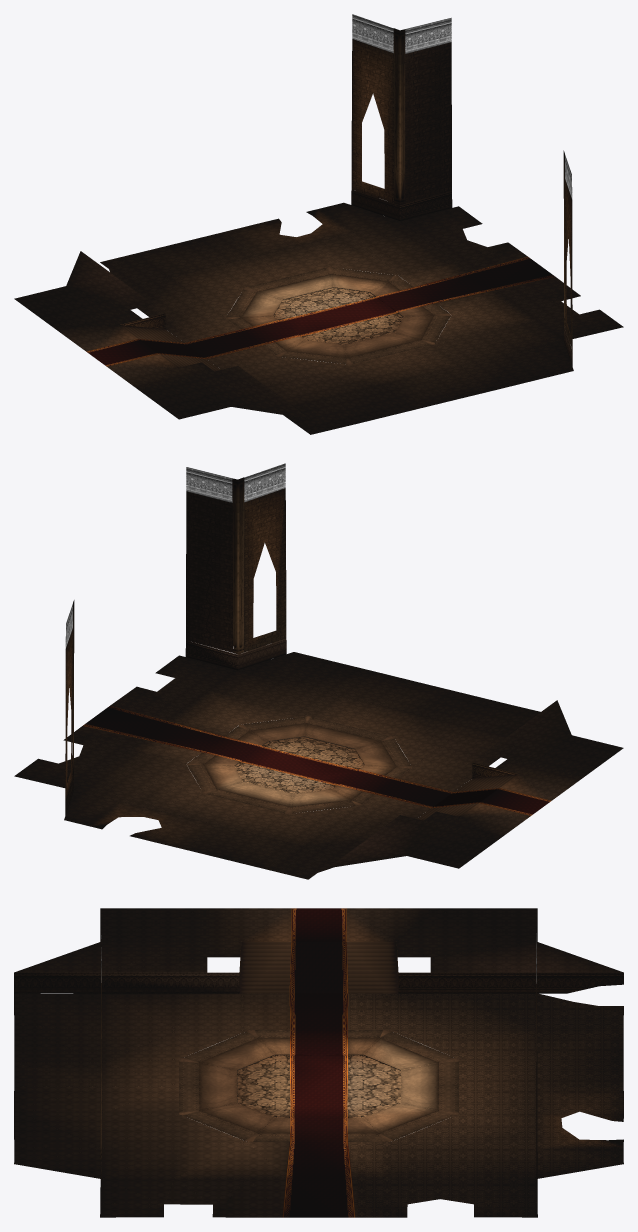
The model's file is test-floor-opt.glb.
3 views of the same model, one above another, from view 1: azimuth 30°, elevation 25°; view 2: azimuth 150°, elevation 25°; view 3: azimuth 270°, elevation 25° (orthographic). The views are drawn at different scales.
Visible parts, largest first — view 1: floor; view 2: floor; view 3: floor.
Part boxes in pixels (x1,y1,x2,y2): floor: [14, 14, 623, 434]; floor: [14, 463, 623, 879]; floor: [14, 908, 623, 1217].
Size of what is drawn, in the model's own units: 330 by 136 by 295.
14 materials, 13 textured.
